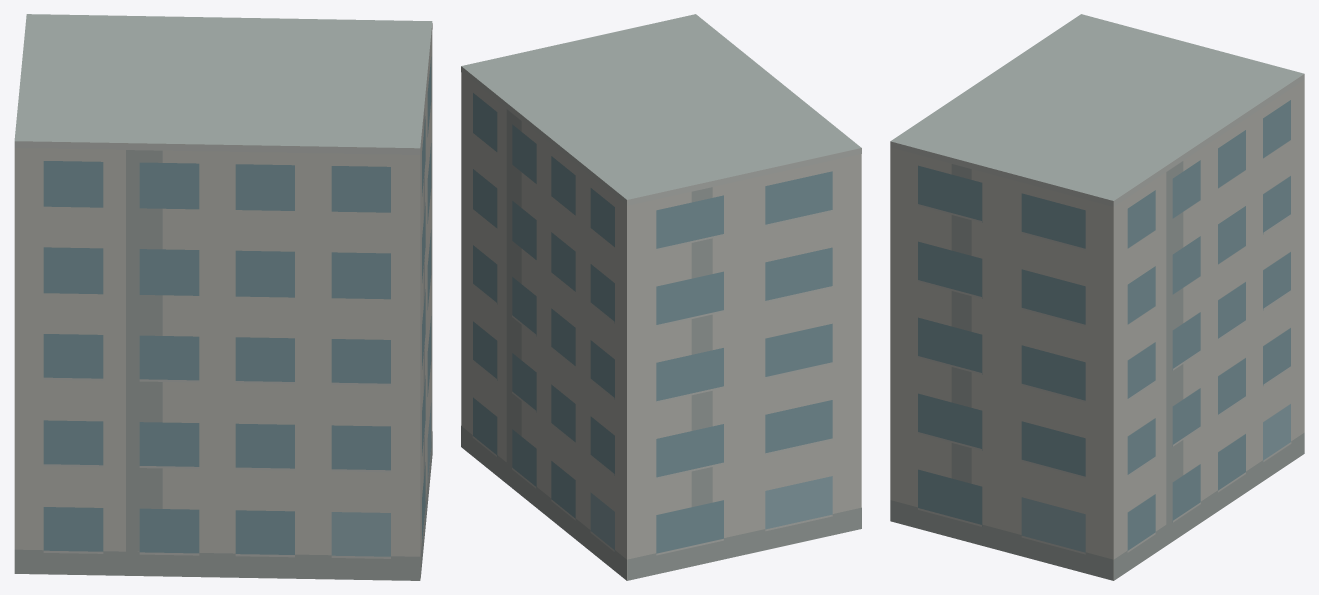
Rendered from residential-5c30ddb1-91d5-4084-8d13-1bfd3b2fc5fe.glb.
3 renders of one model, left to right at view 1: azimuth 30°, elevation 25°; view 2: azimuth 150°, elevation 25°; view 3: azimuth 270°, elevation 25°, orthographic. The views are drawn at different scales.
Visible parts, largest first — view 1: residential-5c30ddb1-91d5-4084-8d13-1bfd3b2fc5fe.tmp; view 2: residential-5c30ddb1-91d5-4084-8d13-1bfd3b2fc5fe.tmp; view 3: residential-5c30ddb1-91d5-4084-8d13-1bfd3b2fc5fe.tmp.
Part boxes in pixels (x1,y1,x2,y2): residential-5c30ddb1-91d5-4084-8d13-1bfd3b2fc5fe.tmp: (14,14,432,580); residential-5c30ddb1-91d5-4084-8d13-1bfd3b2fc5fe.tmp: (461,14,861,580); residential-5c30ddb1-91d5-4084-8d13-1bfd3b2fc5fe.tmp: (890,14,1304,580).
Size of the model in its own units: 16.11 by 15.25 by 15.08.
